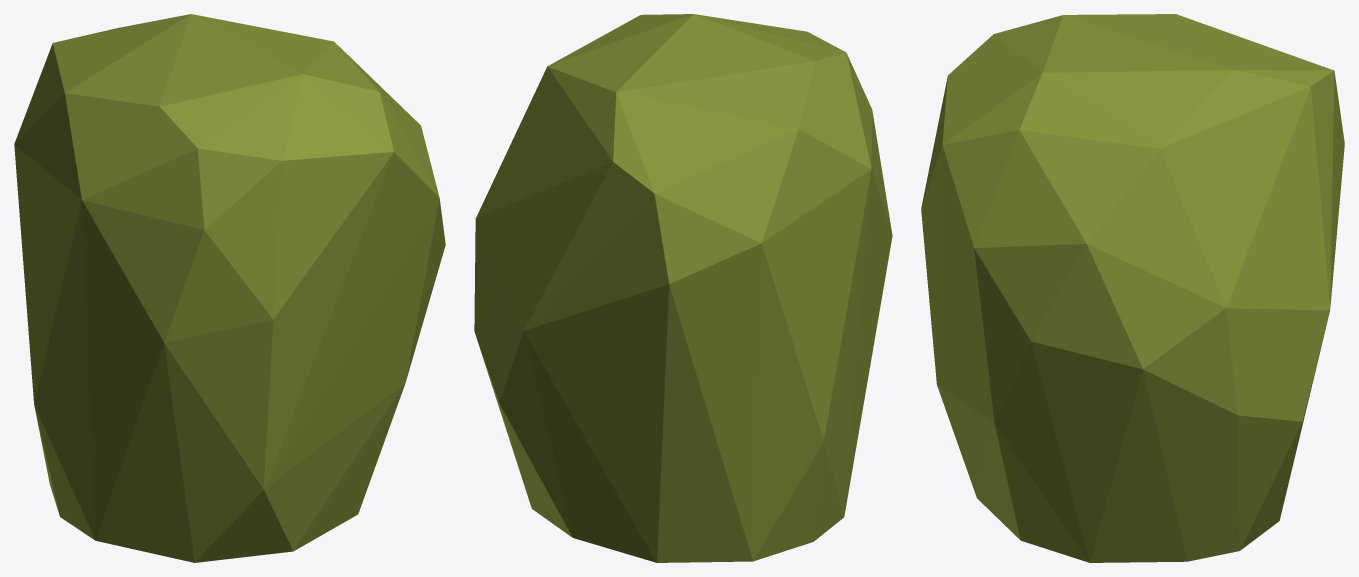
Rendered from ea_swamp_grass_02e_pre__21__lev1.glb.
3 renders of one model, left to right at view 1: azimuth 30°, elevation 25°; view 2: azimuth 150°, elevation 25°; view 3: azimuth 270°, elevation 25°, orthographic.
Parts seen in each view (by area): view 1: ea_swamp_grass_02e_pre__21__lev1; view 2: ea_swamp_grass_02e_pre__21__lev1; view 3: ea_swamp_grass_02e_pre__21__lev1.
Boxes of the visible parts, <box> form: ea_swamp_grass_02e_pre__21__lev1: <box>14,14,445,562</box>; ea_swamp_grass_02e_pre__21__lev1: <box>474,14,892,562</box>; ea_swamp_grass_02e_pre__21__lev1: <box>921,14,1344,562</box>.
Size of the model in its own units: 1.62 by 1.92 by 1.65.
Materials: 1 (1 with a texture image).
